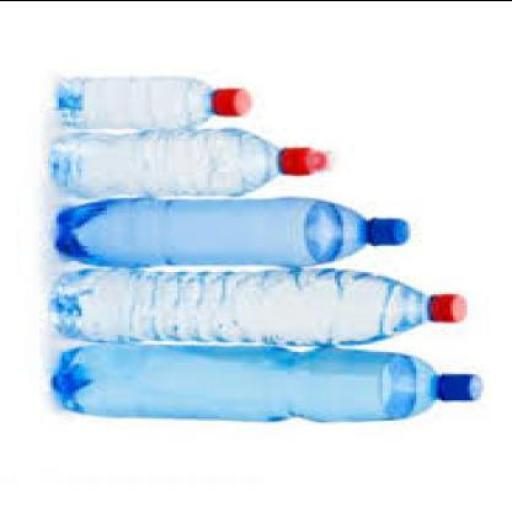plastic: (56, 341, 487, 425), (59, 267, 470, 348), (56, 193, 410, 269), (50, 130, 341, 199), (59, 76, 254, 132), (282, 149, 340, 176), (439, 373, 484, 405), (428, 293, 470, 325), (211, 89, 253, 119), (366, 219, 411, 246)
